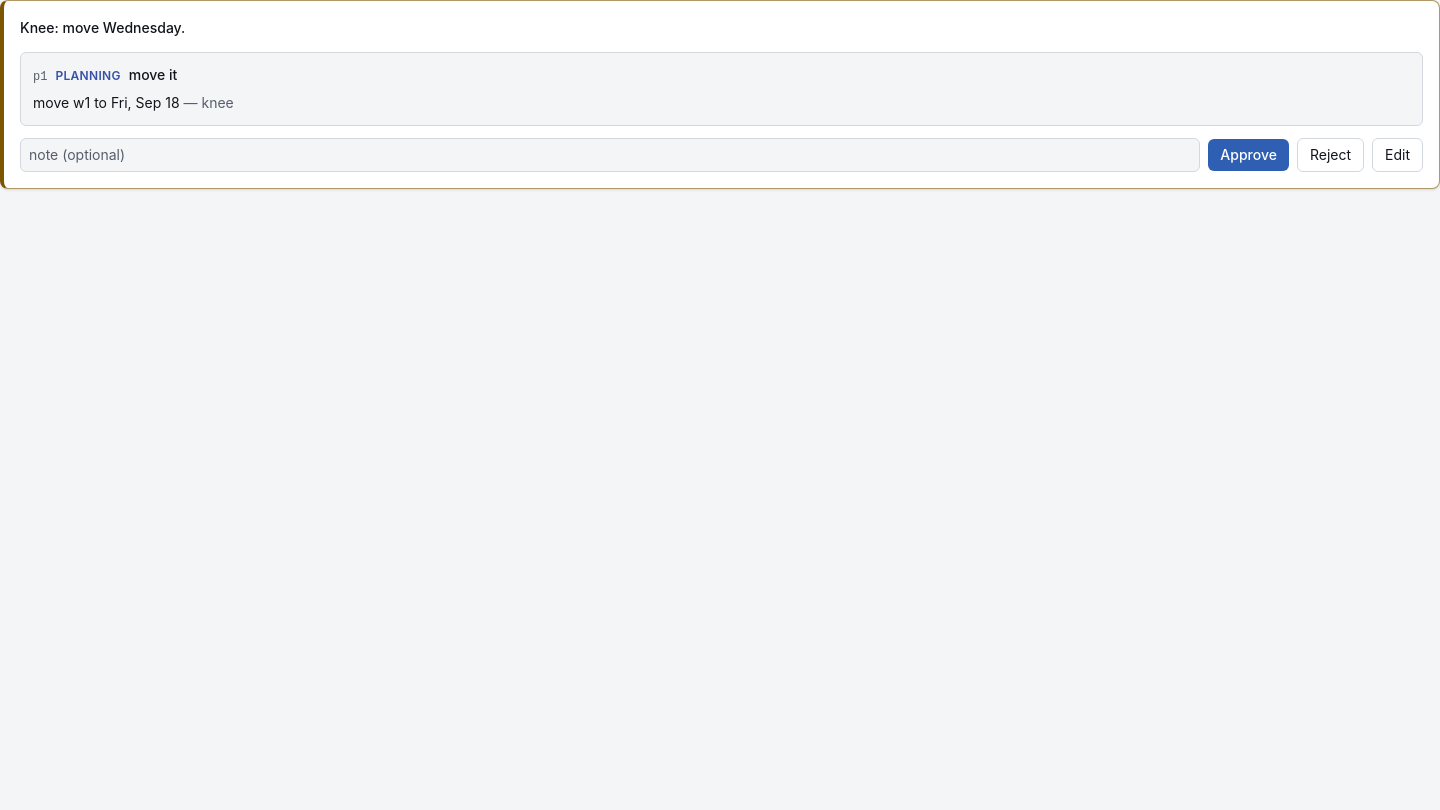
Test: an older validate response landing after a newer one is ignored
Click the button "Edit" at coordinates (1398, 155), box [1372,138,1423,172]
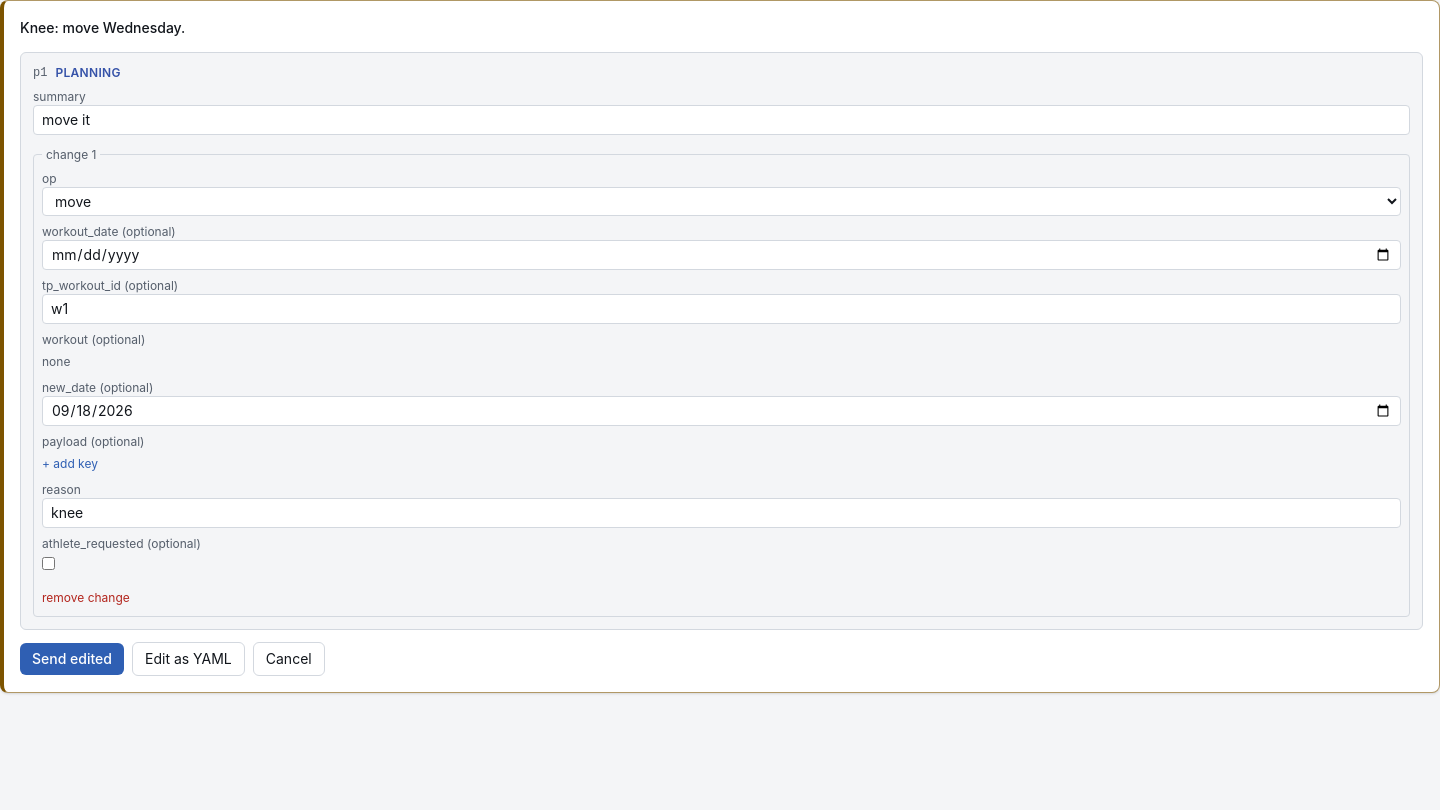
Type "2026-09-19" into the date field labelled "new_date" at coordinates (722, 411), box [42,396,1401,426]
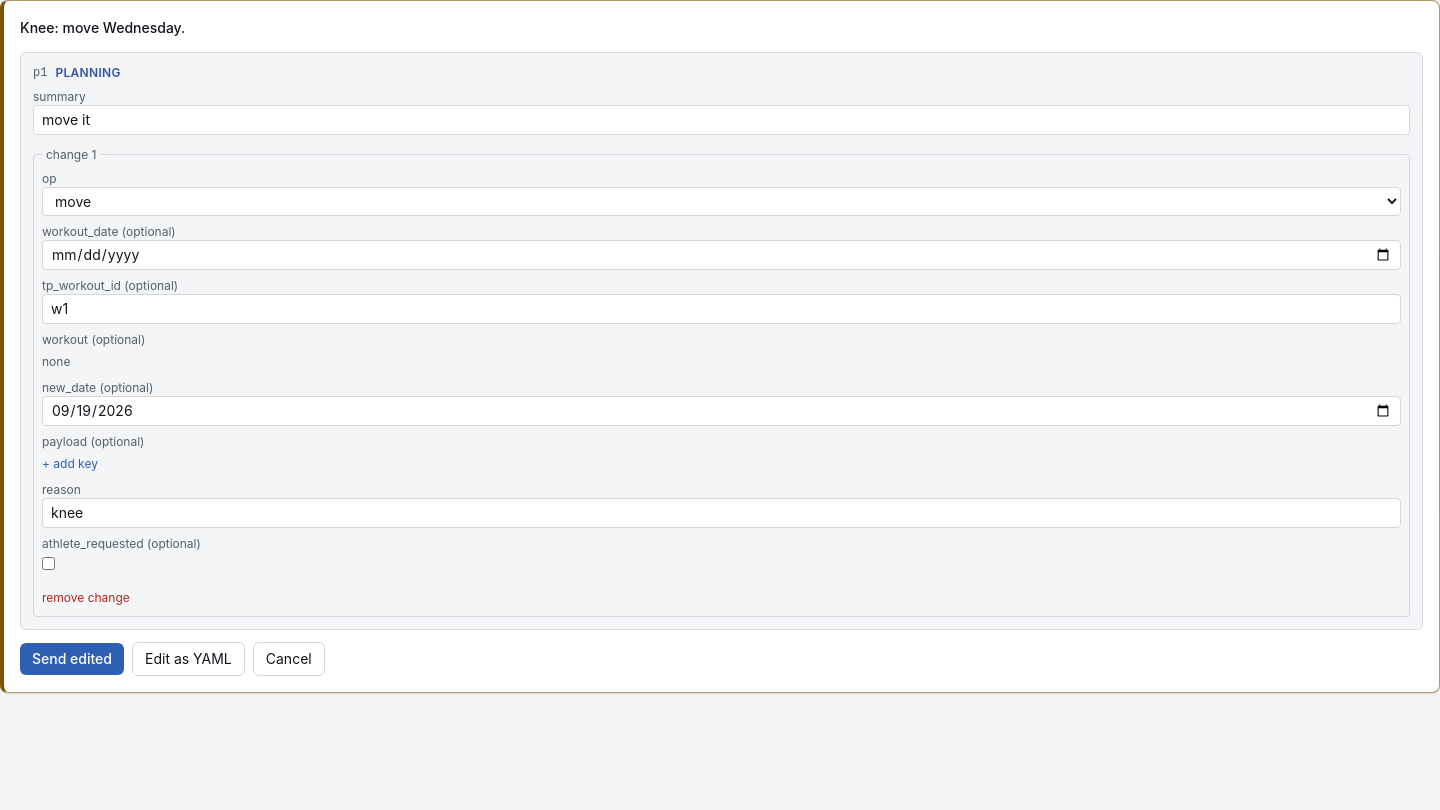
Type "2026-09-20" into the date field labelled "new_date" at coordinates (722, 411), box [42,396,1401,426]
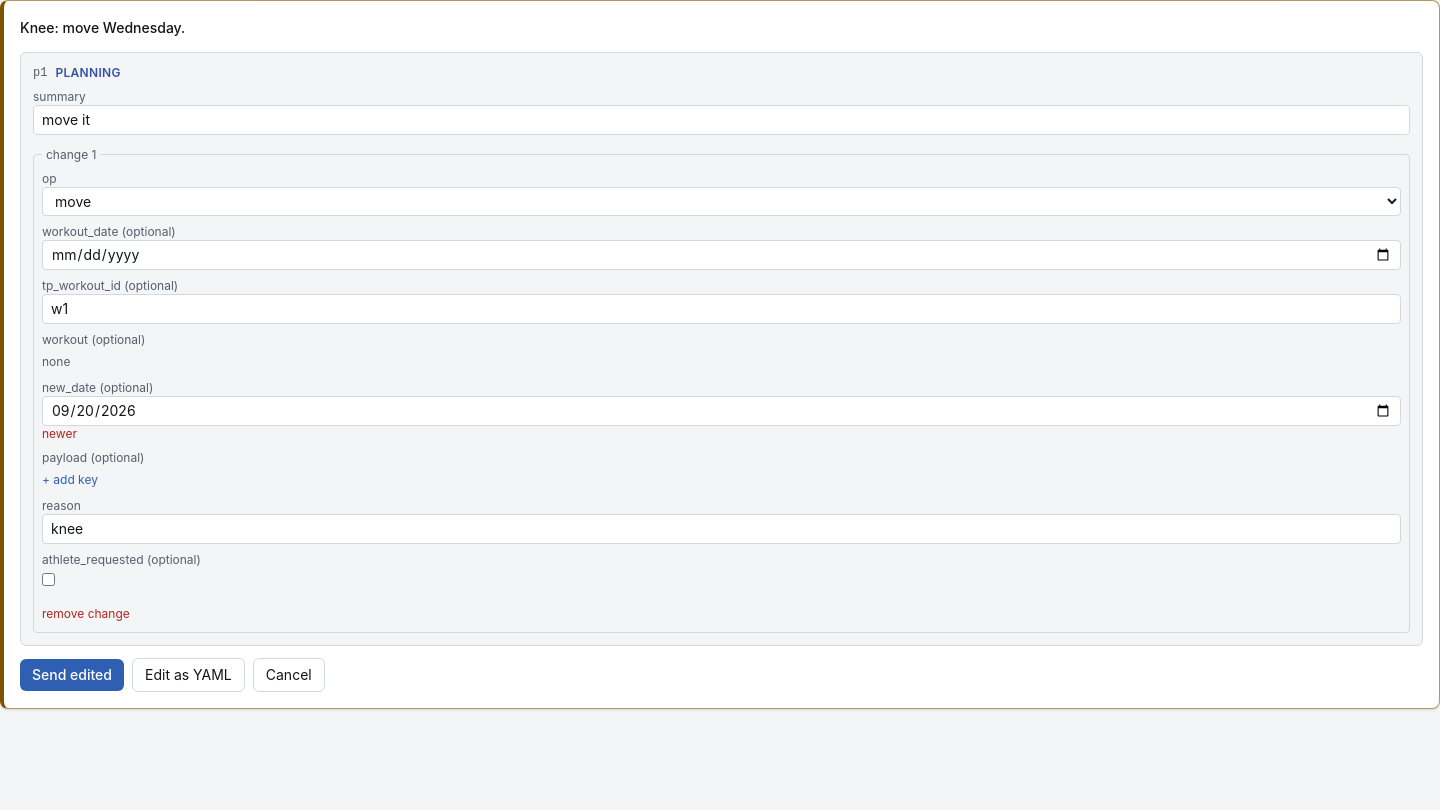
Expected: the text "newer" is shown, [42,426,77,441]
